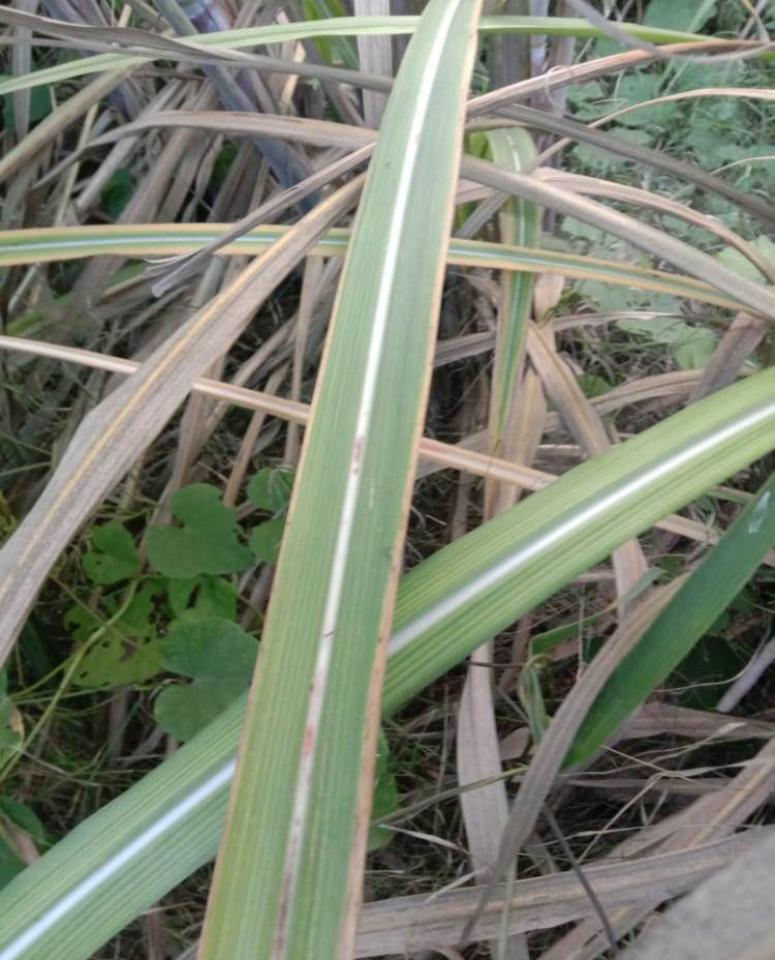RedRot: (275, 816, 302, 959), (302, 721, 316, 764), (352, 434, 363, 475)
Yellow: (336, 0, 485, 959), (196, 247, 349, 959)
